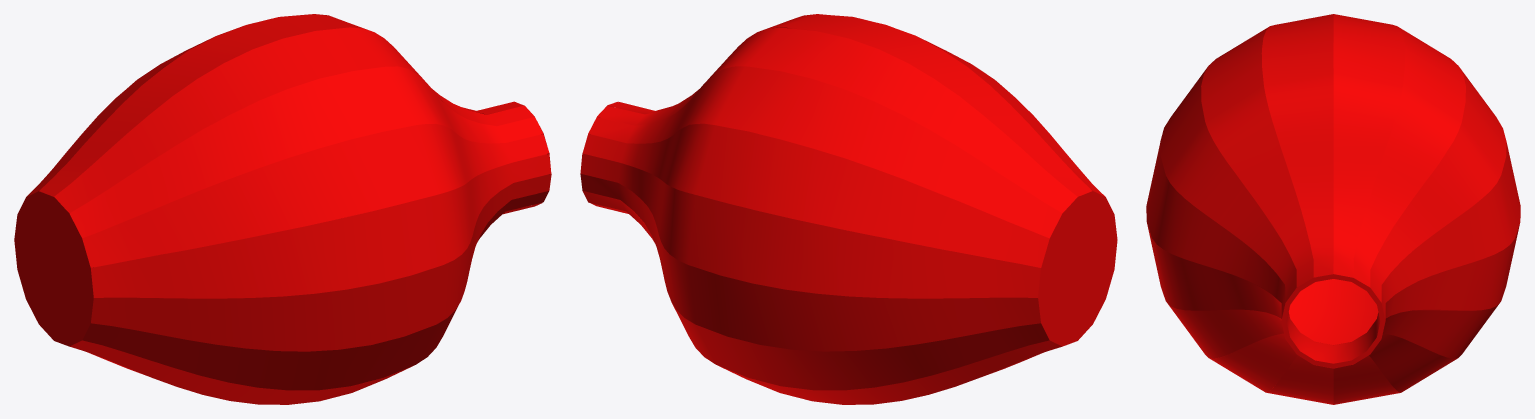
The picture shows the model from 3 angles, left to right: view 1: azimuth 30°, elevation 25°; view 2: azimuth 150°, elevation 25°; view 3: azimuth 270°, elevation 25°; orthographic projection. The views are drawn at different scales.
Parts seen in each view (by area): view 1: Renderer Node; view 2: Renderer Node; view 3: Renderer Node.
Boxes of the visible parts, left/top/right/bottom form: Renderer Node: left=14, top=14, right=551, bottom=404; Renderer Node: left=580, top=14, right=1117, bottom=404; Renderer Node: left=1146, top=14, right=1520, bottom=404.
Size of the model in its own units: 0.7068 by 0.5007 by 0.5006.
1 material, 1 textured.
